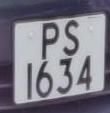1: (22, 61, 36, 103)
3: (55, 56, 76, 100)
4: (76, 52, 96, 95)
6: (34, 60, 56, 101)
P: (37, 18, 62, 63)
S: (61, 16, 83, 60)
